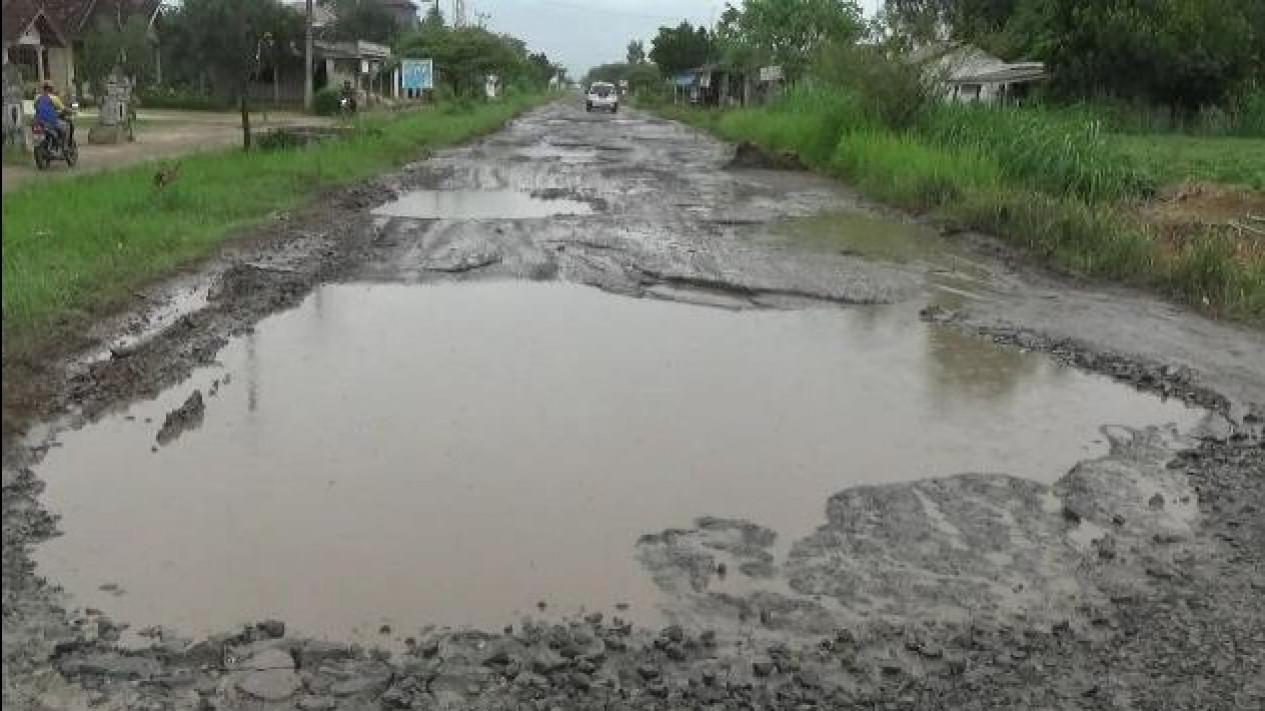Pothole: (75, 267, 1211, 679), (23, 201, 321, 364), (367, 161, 628, 241), (773, 199, 968, 278), (521, 89, 682, 174), (677, 185, 786, 242)
